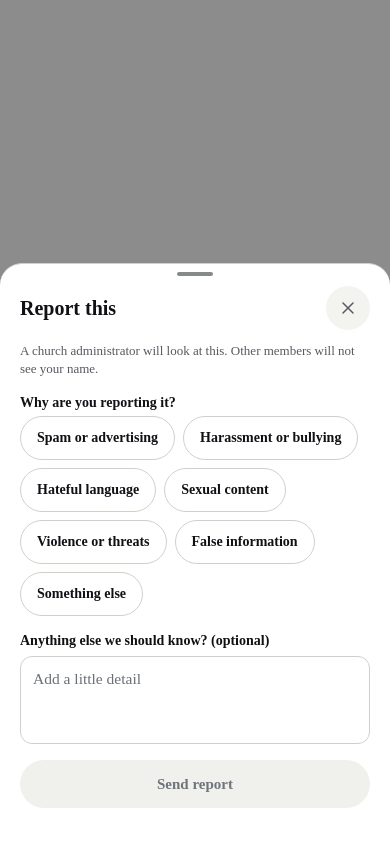
Test: sending › thanks the reporter in place, and tells the caller it is reported
The image size is (390, 844).
Click the radio button with test id "report-sheet-reason-spam" at point(98, 438), box x1=20 y1=416 x2=175 y2=460
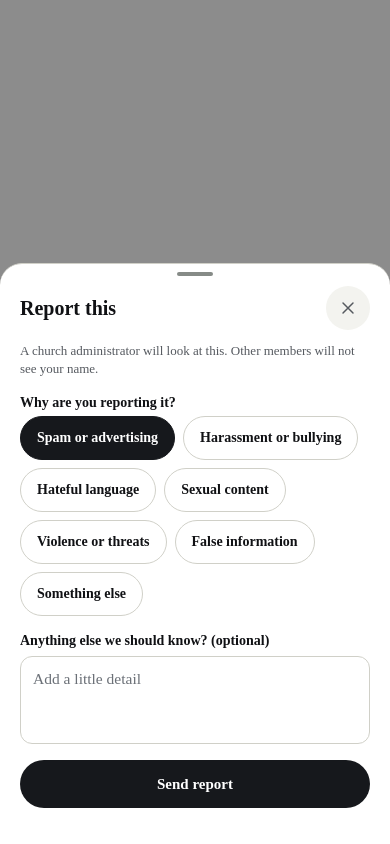
Click the button with test id "report-sheet-submit" at point(195, 784), box x1=20 y1=760 x2=370 y2=808
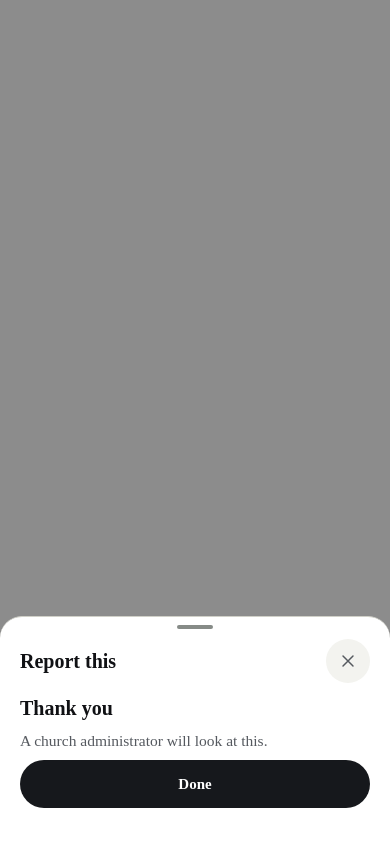
Check: the element with test id "report-sheet-sent" is shown, box x1=20 y1=695 x2=370 y2=808
Check: the text "Thank you" is shown, box x1=20 y1=697 x2=113 y2=719
Check: the button with test id "report-sheet-submit" is gone
